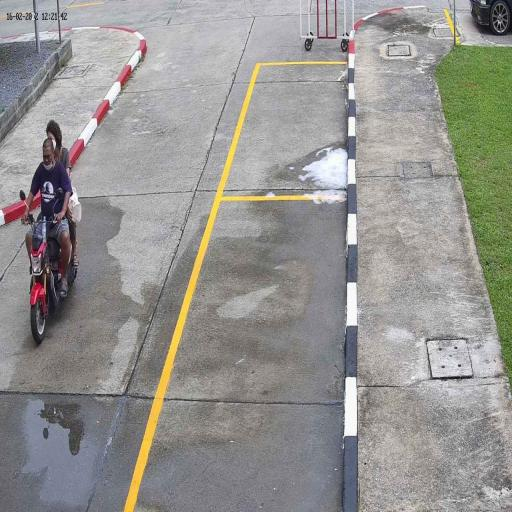motorcycle: (27, 212, 78, 346)
